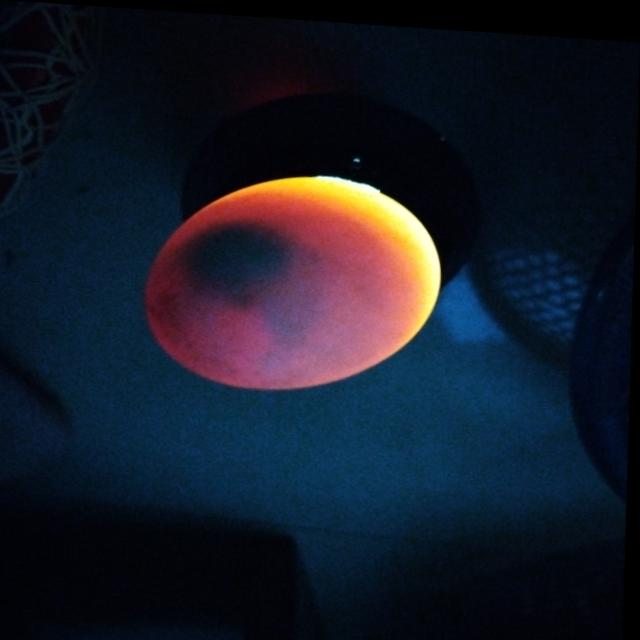Area Infectada: (155, 219, 328, 357)
